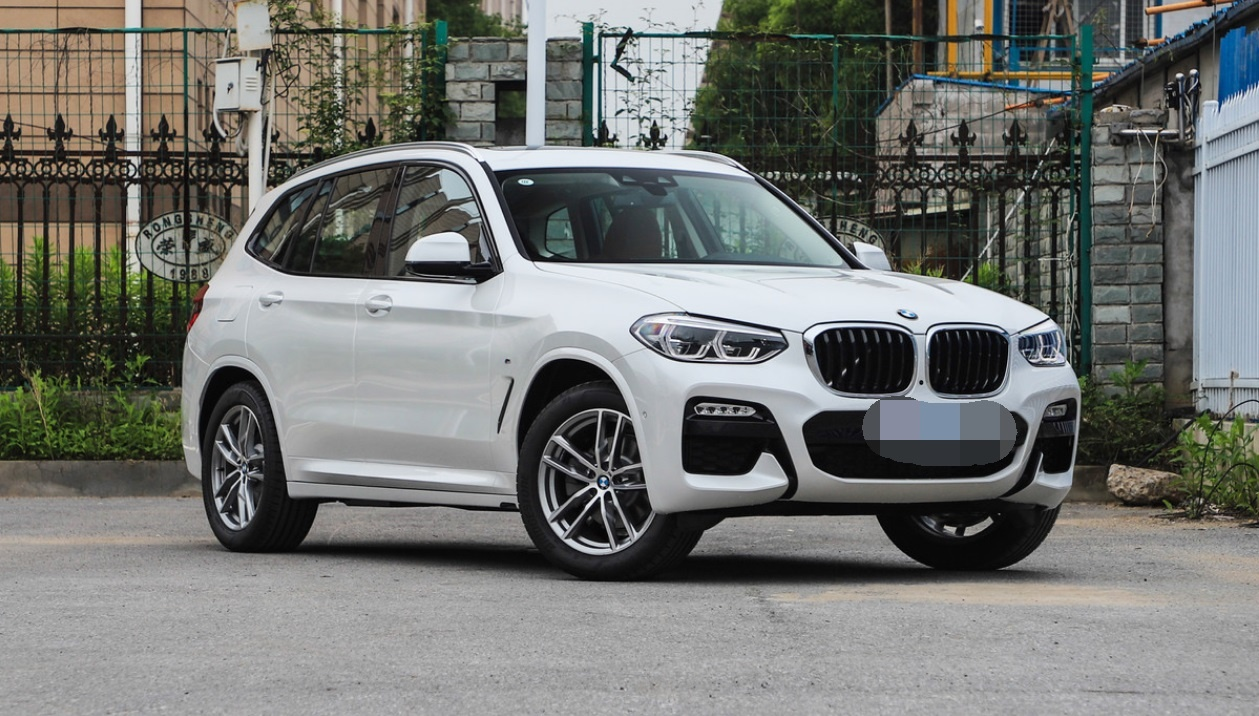SUV: (183, 142, 1092, 584)
